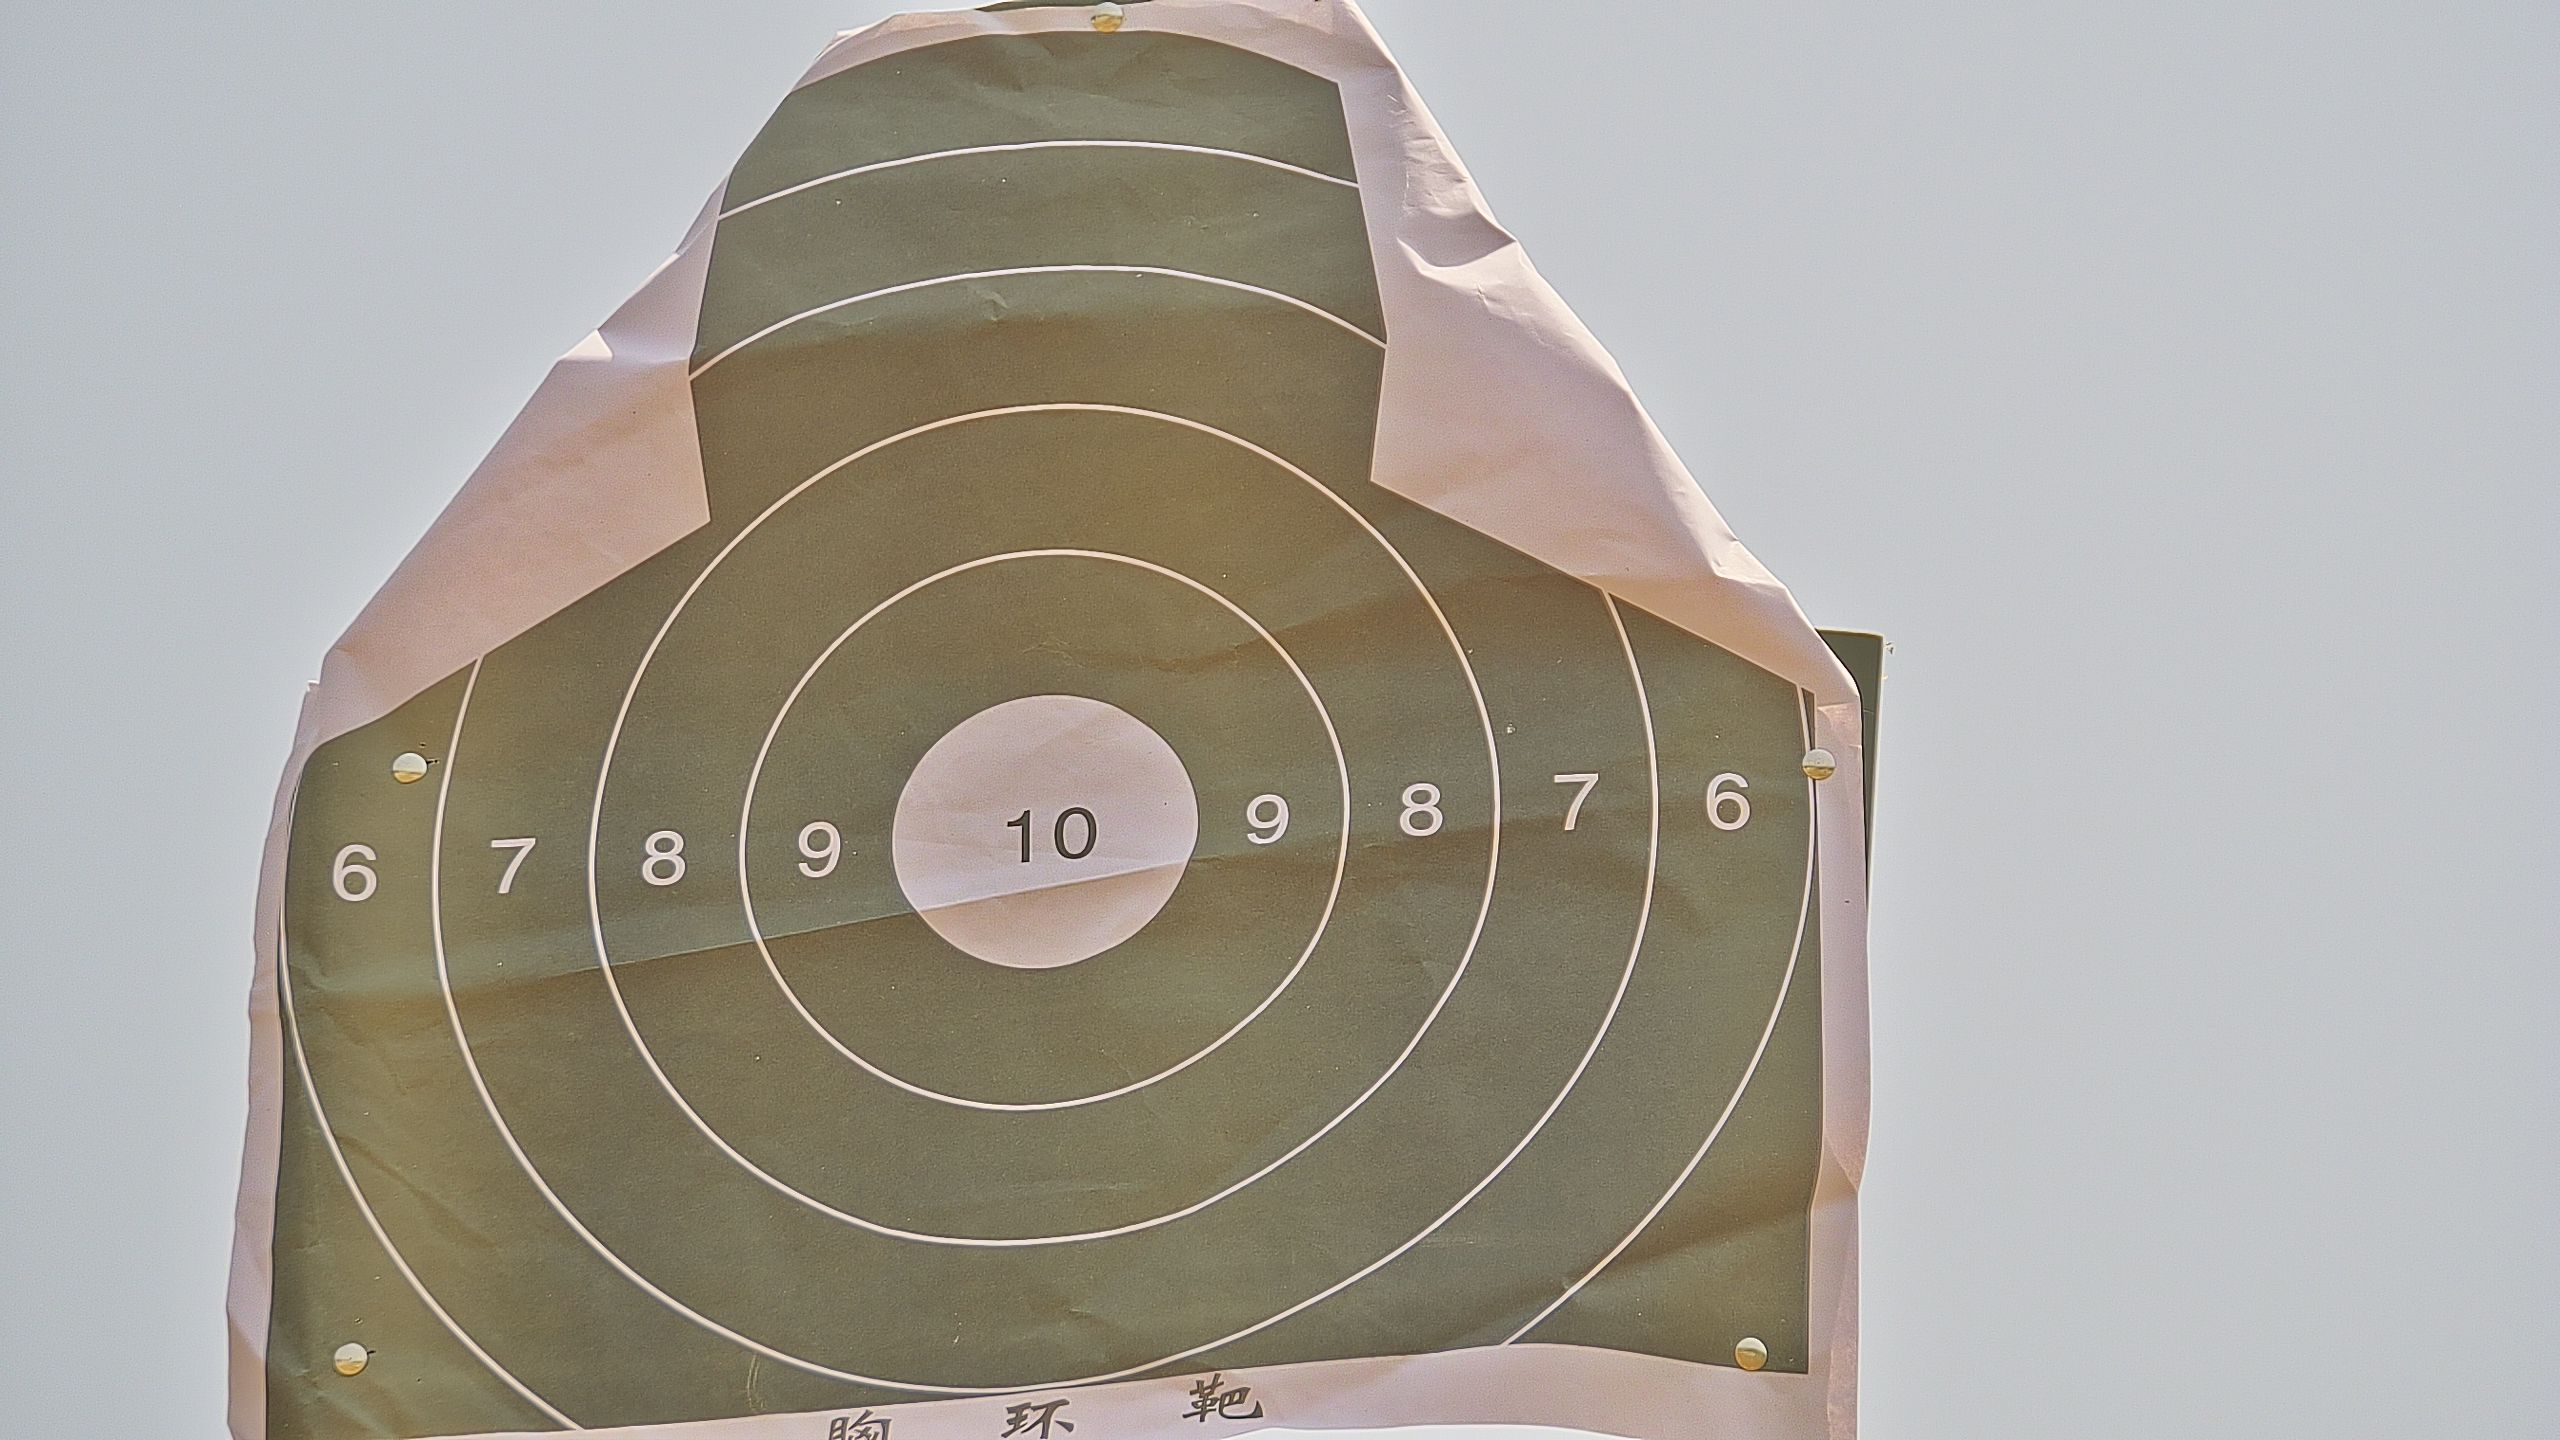kernel: (1044, 832, 1046, 839)
target: (260, 33, 1816, 1440)
ten: (888, 693, 1199, 971)
